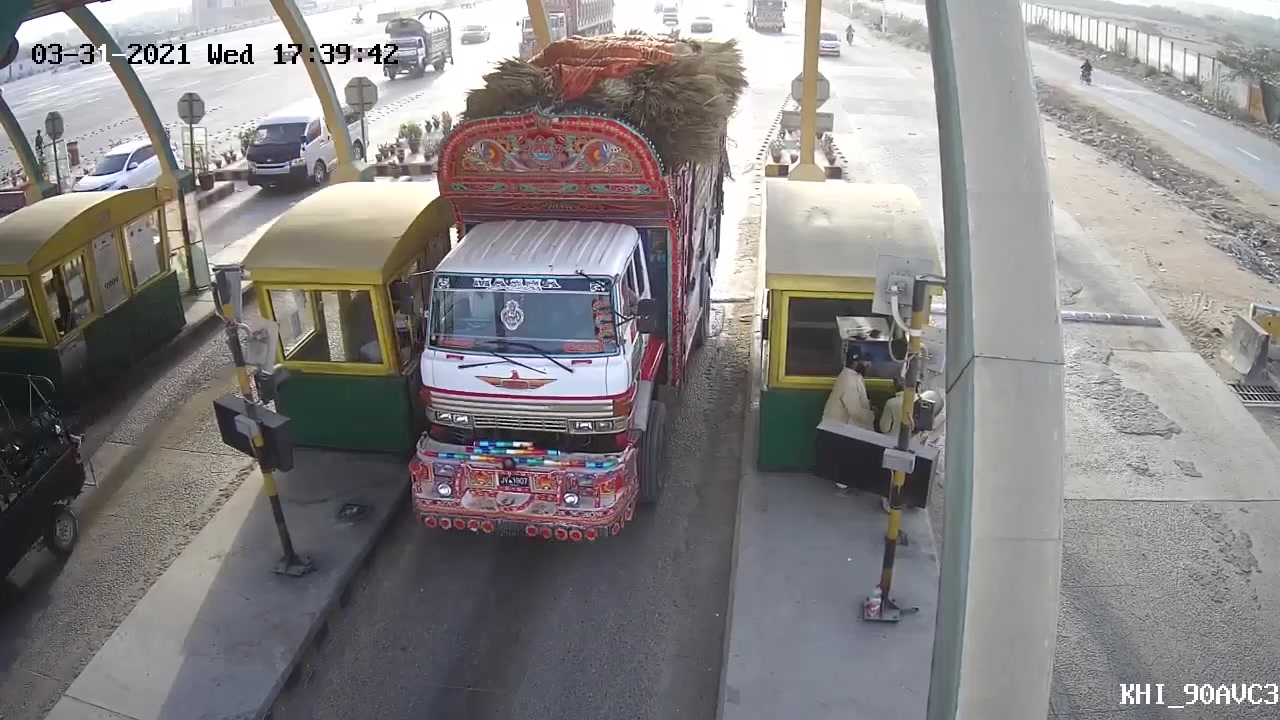F5: (395, 65, 724, 548)
